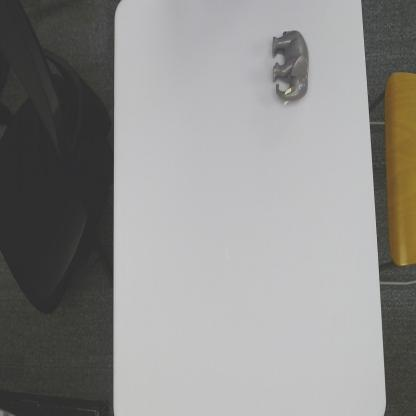Elephant: (270, 26, 310, 106)
